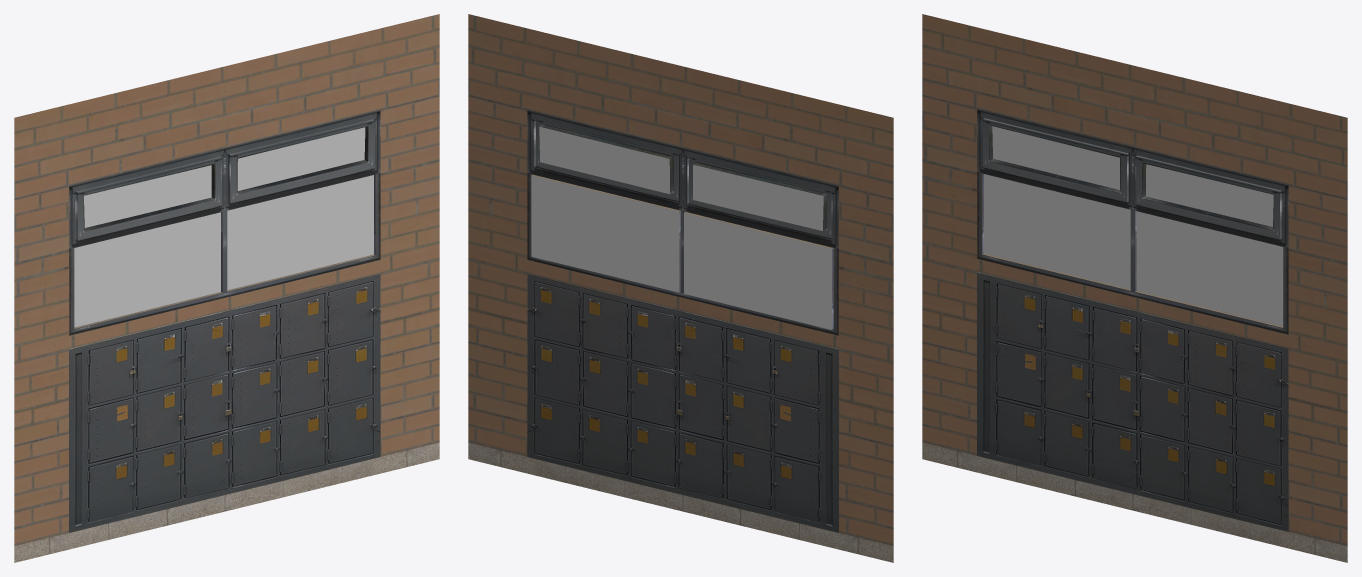
The model's file is Modulo_Ventana_Lockers.fbx.
3 views of the same model, side by side, from view 1: azimuth 30°, elevation 25°; view 2: azimuth 150°, elevation 25°; view 3: azimuth 330°, elevation 25° (orthographic).
Parts seen in each view (by area): view 1: Pared_Lockers_Ventana; view 2: Pared_Lockers_Ventana; view 3: Pared_Lockers_Ventana.
Boxes of the visible parts, box(x1,y1,x2,y2) form: Pared_Lockers_Ventana: box(14, 14, 439, 562); Pared_Lockers_Ventana: box(468, 14, 893, 562); Pared_Lockers_Ventana: box(922, 14, 1347, 562).
Size of the model in its own units: 400 by 400 by 4.85.
